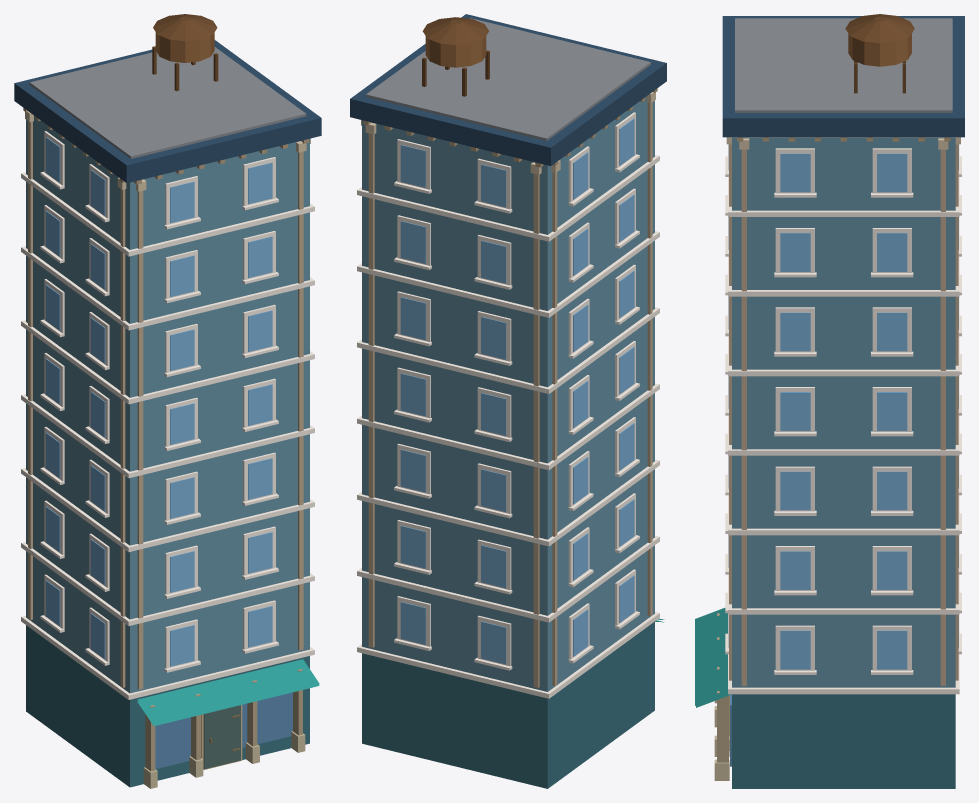
The model's file is downtown-tower.glb.
3 views of the same model, side by side, from view 1: azimuth 30°, elevation 25°; view 2: azimuth 150°, elevation 25°; view 3: azimuth 270°, elevation 25° (orthographic). The views are drawn at different scales.
Visible parts, largest first — view 1: downtown-tower, Corner_lobby_and_faceted_piers; view 2: downtown-tower, Corner_lobby_and_faceted_piers; view 3: downtown-tower, Corner_lobby_and_faceted_piers.
Boxes of the visible parts, bbox=[...] form: downtown-tower: bbox=[14, 14, 321, 787]; Corner_lobby_and_faceted_piers: bbox=[23, 108, 310, 788]; downtown-tower: bbox=[350, 14, 666, 788]; Corner_lobby_and_faceted_piers: bbox=[361, 88, 657, 687]; downtown-tower: bbox=[695, 14, 964, 788]; Corner_lobby_and_faceted_piers: bbox=[714, 137, 960, 780].
Size of the model in its own units: 8 by 27 by 8.91.
